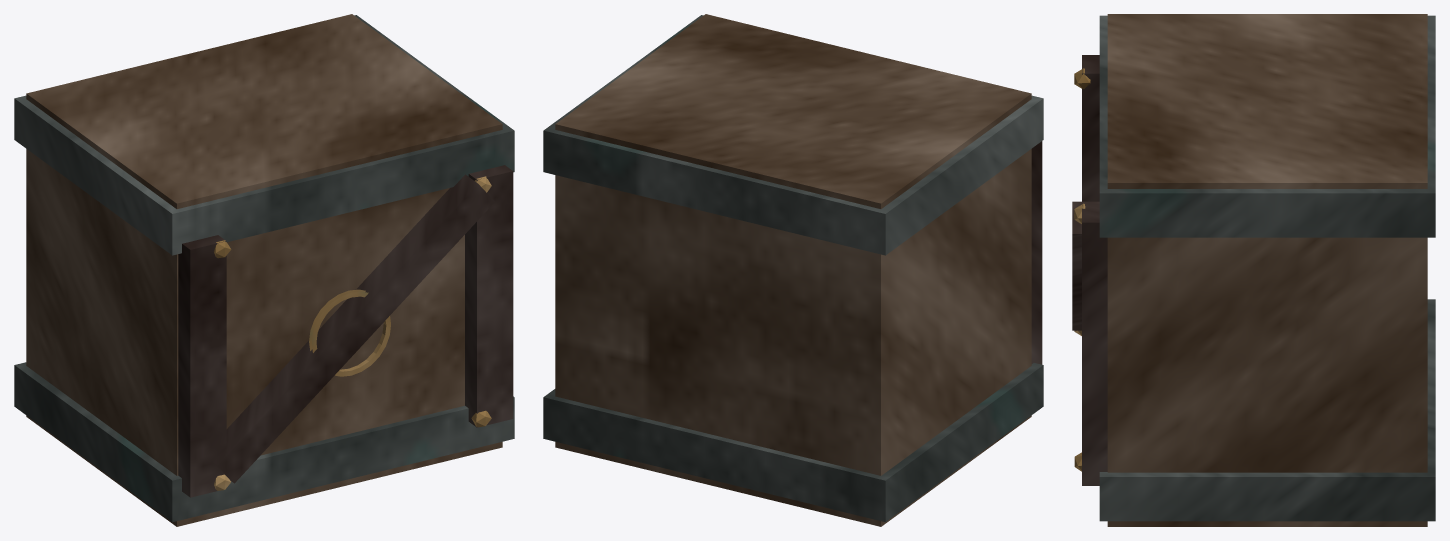
The model's file is 0728_supply_crate_03.glb.
The picture shows the model from 3 angles, left to right: view 1: azimuth 30°, elevation 25°; view 2: azimuth 150°, elevation 25°; view 3: azimuth 270°, elevation 25°; orthographic projection. The views are drawn at different scales.
Visible parts, largest first — view 1: wood, iron, wood_dark, brass; view 2: wood, iron, wood_dark; view 3: wood, iron, wood_dark, brass.
Boxes of the visible parts, x1,y1,x2,y2 form: wood: [26, 14, 502, 526]; iron: [14, 15, 514, 522]; wood_dark: [178, 165, 513, 497]; brass: [214, 176, 491, 490]; wood: [555, 14, 1031, 526]; iron: [543, 15, 1043, 522]; wood_dark: [1031, 141, 1042, 364]; wood: [1107, 14, 1427, 526]; iron: [1099, 15, 1435, 521]; wood_dark: [1072, 55, 1107, 485]; brass: [1074, 68, 1090, 471].
Bounding box in the file's own units: 0.9475 × 0.8557 × 0.82.
Materials: 4 (4 with a texture image).
